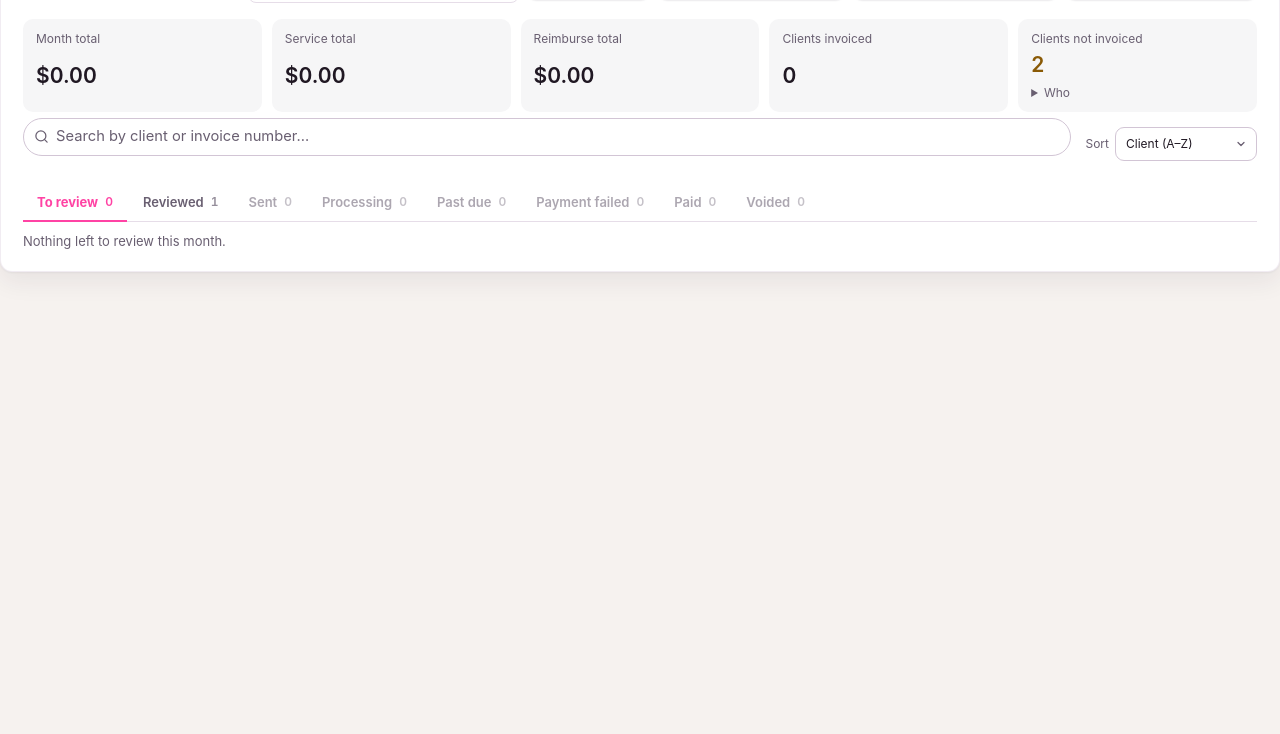
Test: Send to other addresses... opens the picker › for a client with ONE address
What coordinates should you click on to do the following:
click the tab "Reviewed 1"
I would click on:
 (181, 203)
Its box is left=129, top=184, right=232, bottom=222.
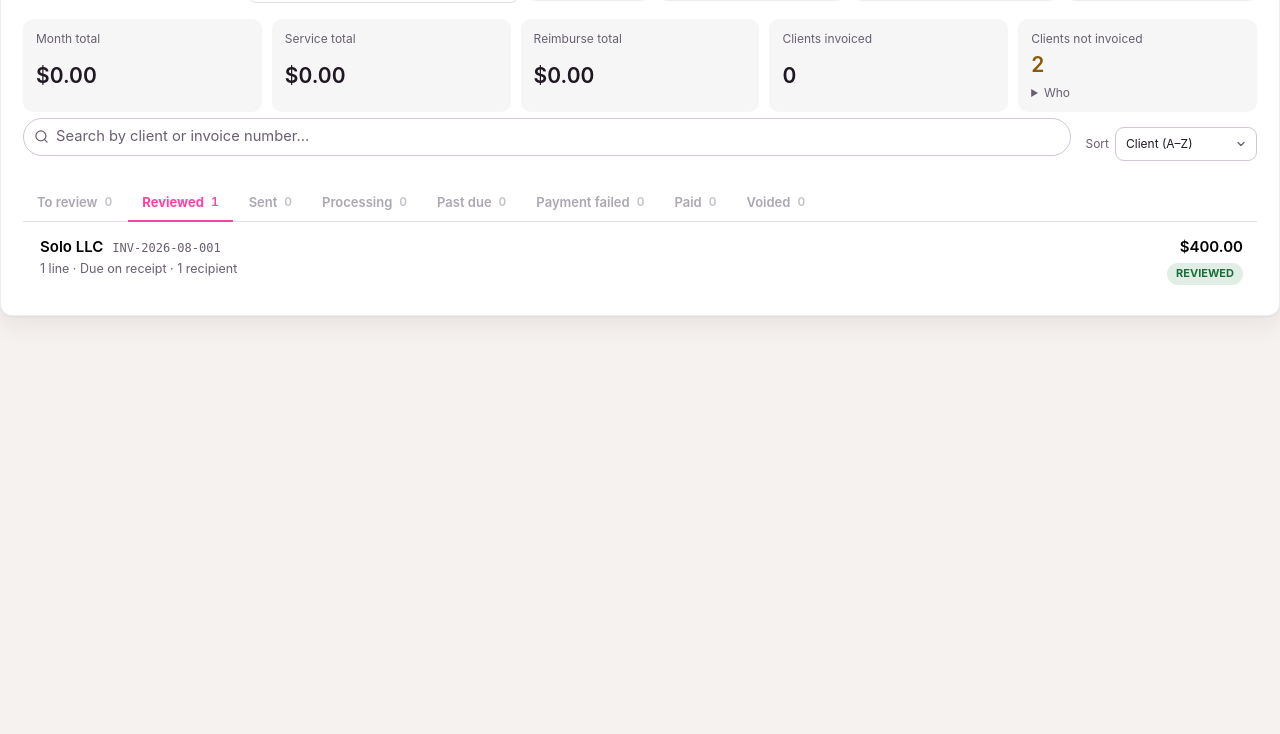
What coordinates should you click on to do the following:
click the text "INV-2026-08-001"
I would click on:
 (166, 249)
Its box is left=112, top=240, right=221, bottom=258.
(page scrolled)
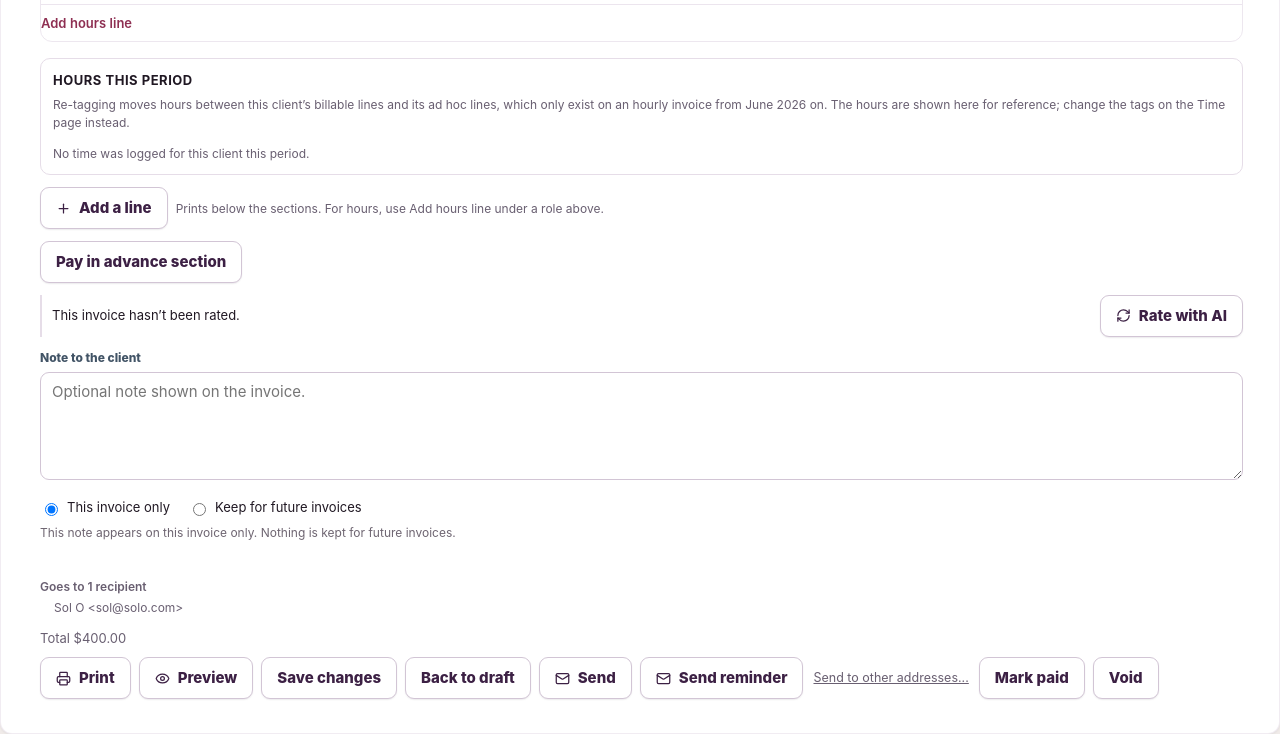
What coordinates should you click on to do the following:
click the button "Send to other addresses..."
I would click on:
 (891, 678)
Its box is left=812, top=657, right=971, bottom=699.
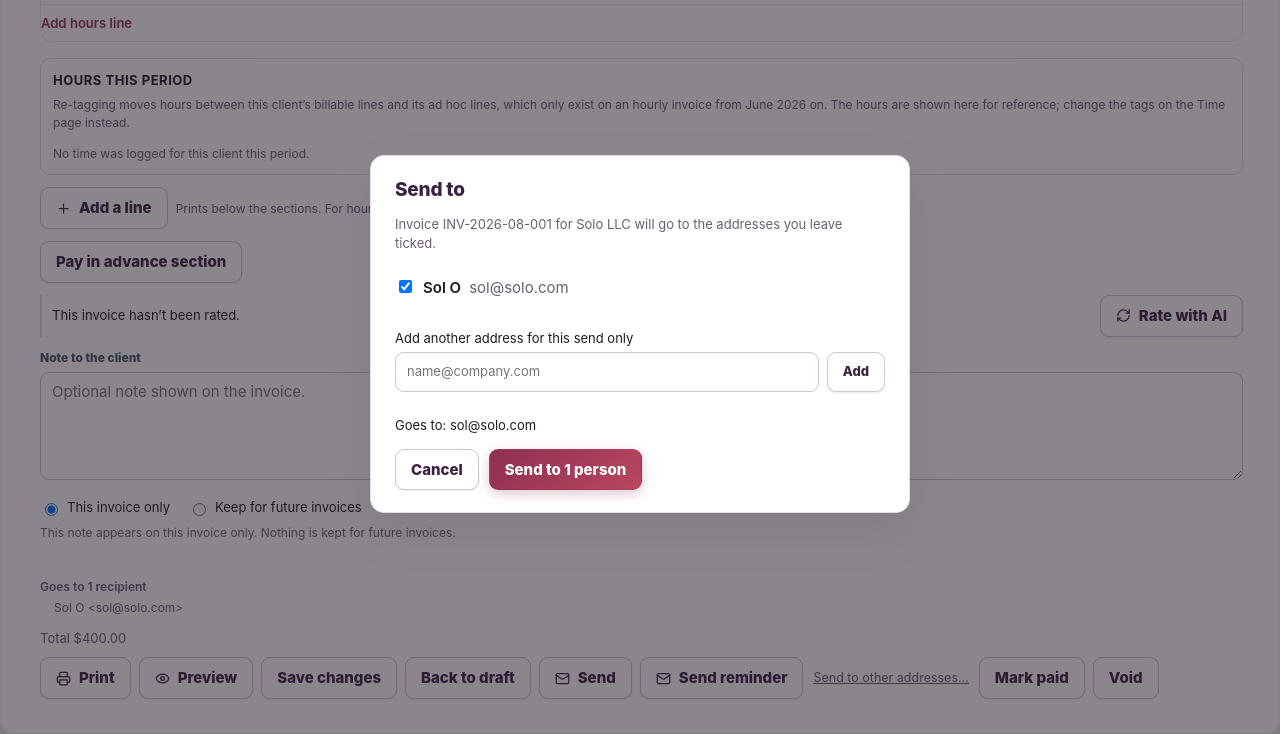
Expected: the checkbox labelled "Sol O sol@solo.com" is checked, left=399, top=280, right=412, bottom=293
Expected: the field labelled "Add another address for this send only" is shown, left=395, top=352, right=819, bottom=392
